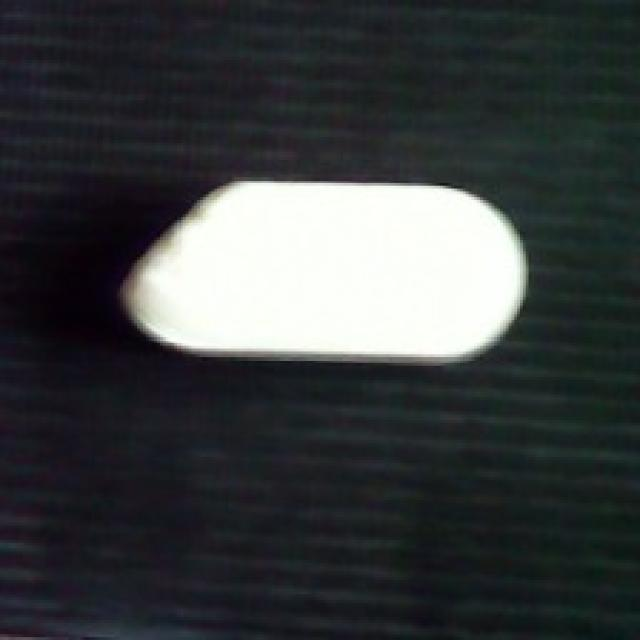defected: (120, 172, 531, 368)
